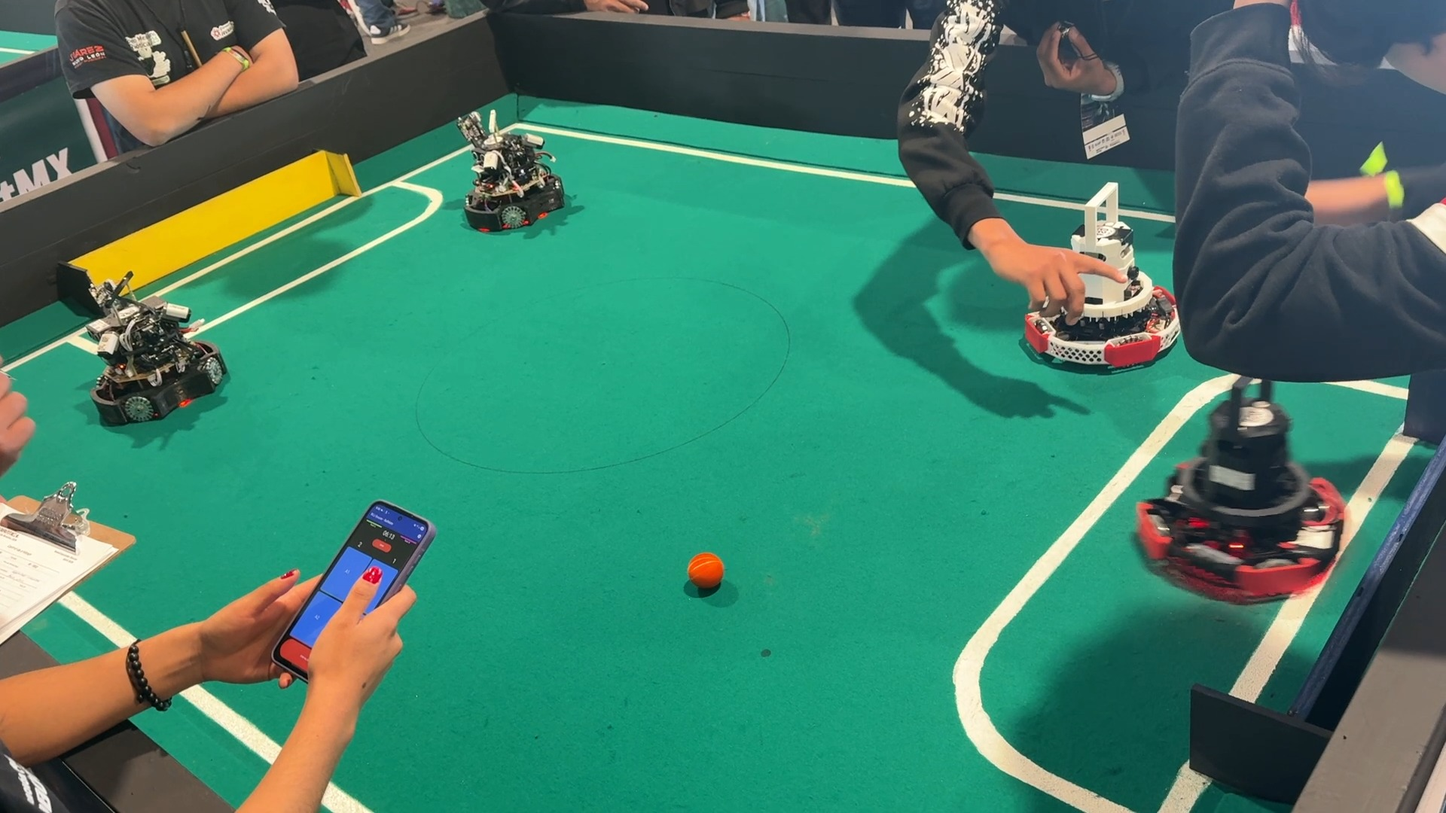Robot: (1135, 357, 1359, 608), (1009, 170, 1197, 388), (61, 265, 247, 444), (428, 87, 592, 247)
pelota: (684, 552, 731, 605)
